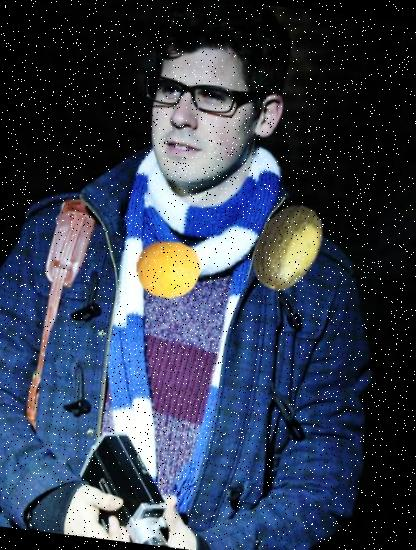Cantaloupe: (132, 236, 204, 306)
Melon: (236, 198, 337, 300)
